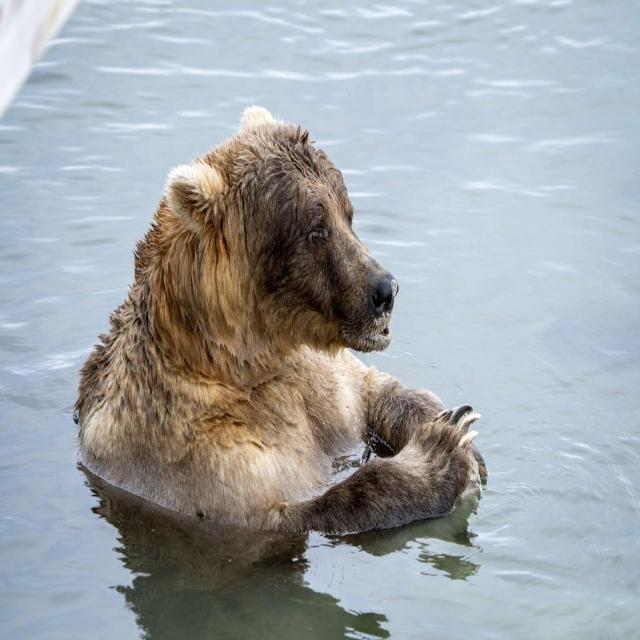Bear: (73, 107, 489, 568)
